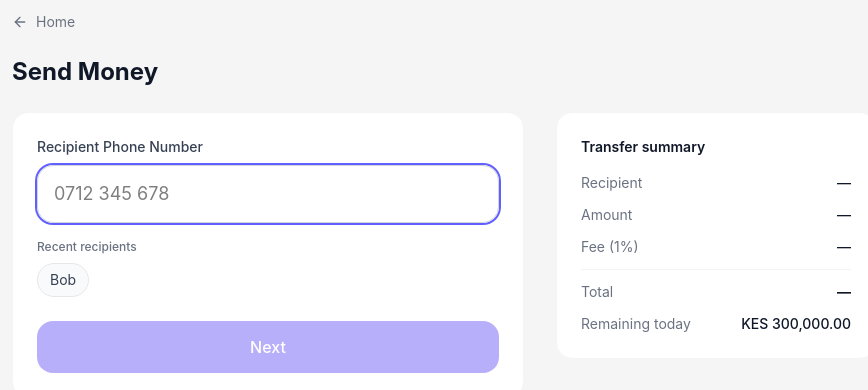
Test: SendPage › lists recent recipient chips and a chip pre-fills the phone input
This screenshot has width=868, height=390.
Expected: the text "Recent recipients" is shown, [37,239,137,254]
Click the button "Bob".
click(63, 280)  # box [37,263,89,297]
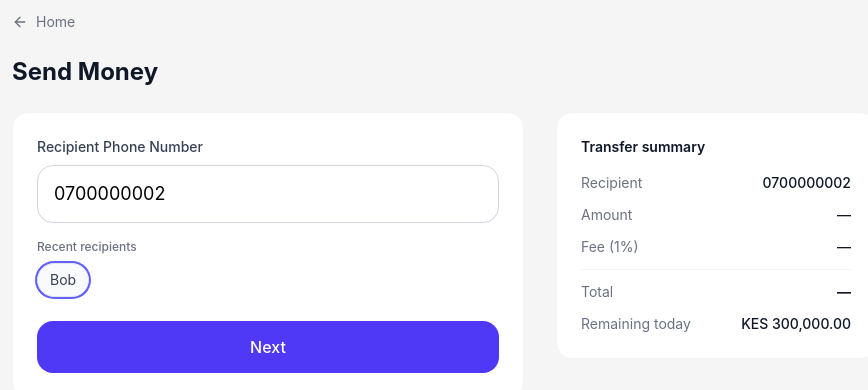
Expected: the field with placeholder "0712 345 678" holds "0700000002", [37,165,499,223]
